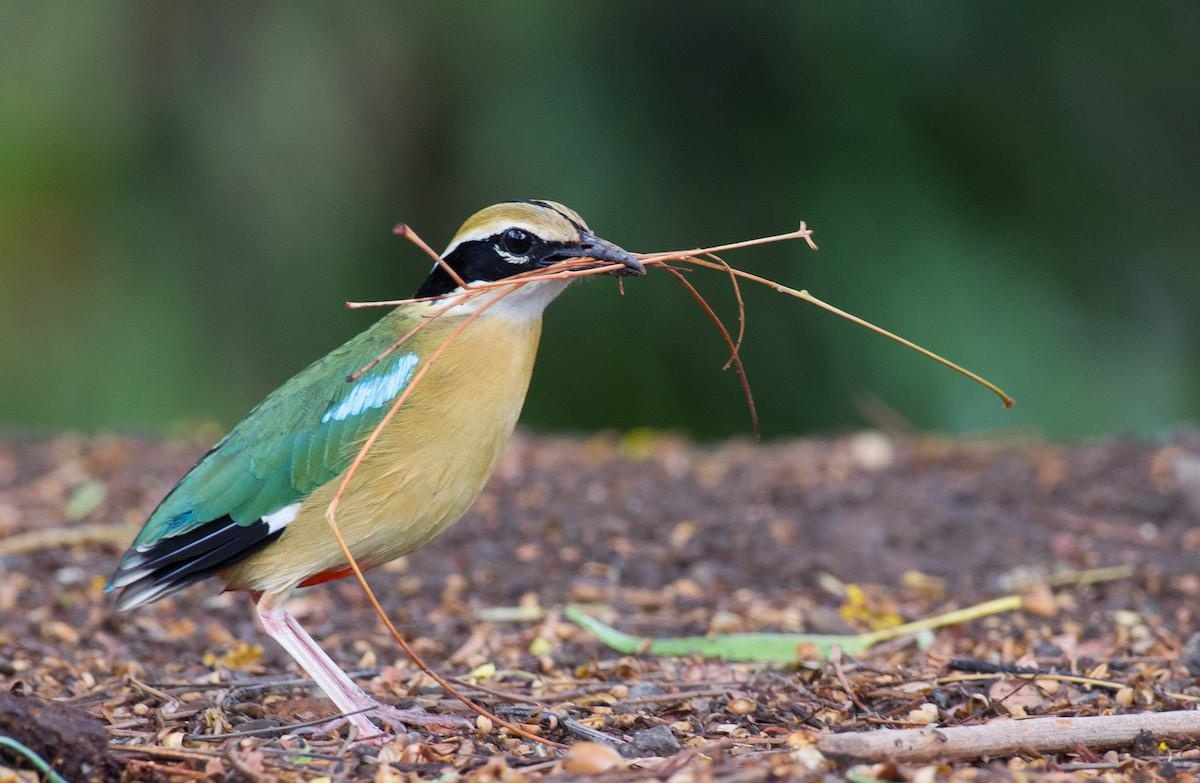pitta: (161, 179, 696, 742)
